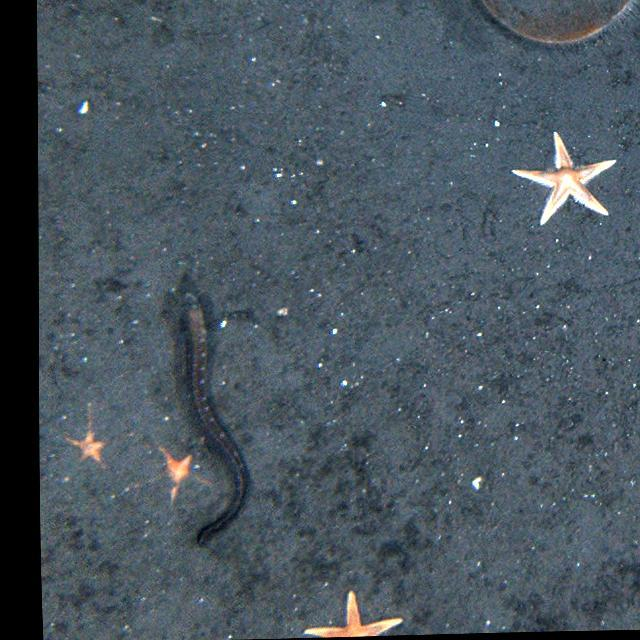roundfish: (170, 290, 250, 548)
